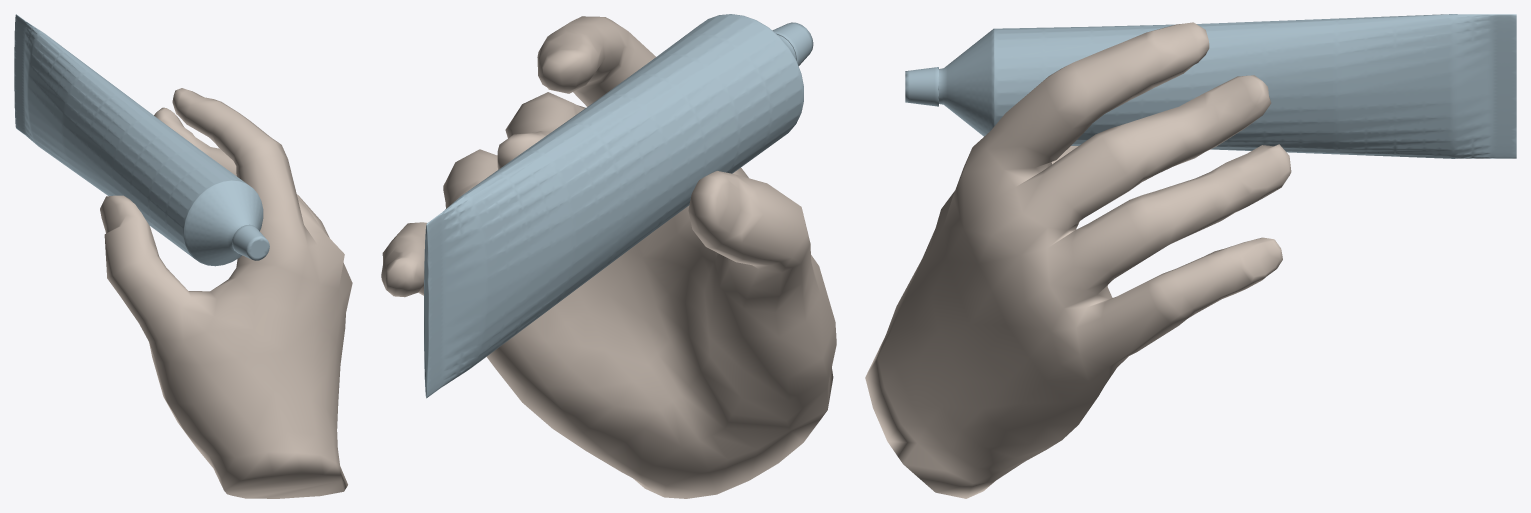
Rendered from grasp_1.glb.
3 views of the same model, side by side, from view 1: azimuth 30°, elevation 25°; view 2: azimuth 150°, elevation 25°; view 3: azimuth 270°, elevation 25° (orthographic). The views are drawn at different scales.
Size of the model in its own units: 0.114 by 0.1631 by 0.2153.
